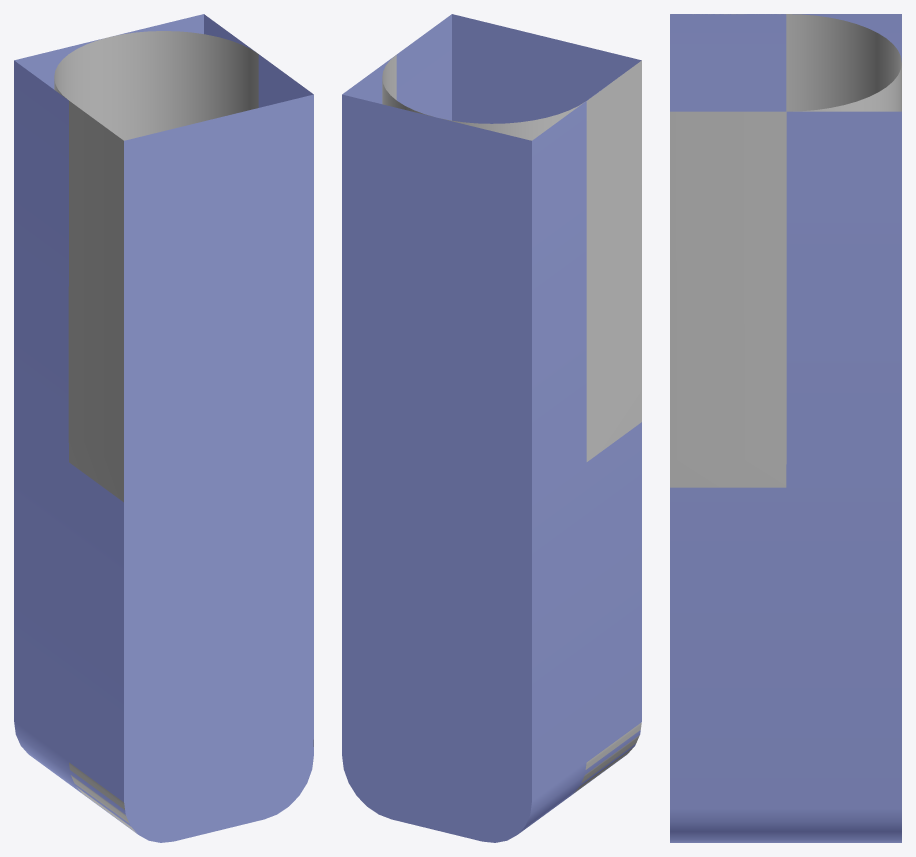
The model's file is WallBrick.fbx.
The picture shows the model from 3 angles, left to right: view 1: azimuth 30°, elevation 25°; view 2: azimuth 150°, elevation 25°; view 3: azimuth 270°, elevation 25°; orthographic projection. The views are drawn at different scales.
Visible parts, largest first — view 1: Wall_Reference, Brick_End; view 2: Wall_Reference, Brick_End; view 3: Wall_Reference, Brick_End.
Boxes of the visible parts, x1=… form: Wall_Reference: x1=14, y1=14, x2=313, y2=842; Brick_End: x1=54, y1=31, x2=313, y2=832; Wall_Reference: x1=342, y1=14, x2=641, y2=842; Brick_End: x1=382, y1=55, x2=641, y2=793; Wall_Reference: x1=670, y1=14, x2=901, y2=842; Brick_End: x1=670, y1=14, x2=901, y2=487.
Size of the model in its own units: 99.71 by 358 by 100.
